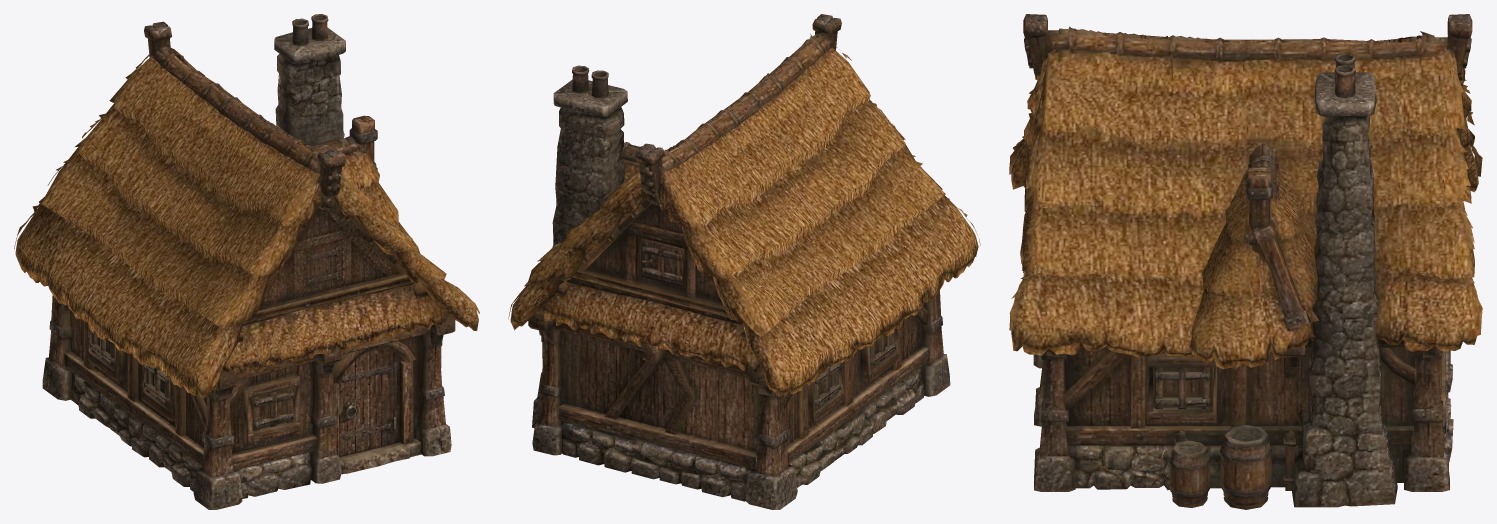
File: house_cottage_b.glb
3 renders of one model, left to right at view 1: azimuth 30°, elevation 25°; view 2: azimuth 150°, elevation 25°; view 3: azimuth 270°, elevation 25°, orthographic. The views are drawn at different scales.
Visible parts, largest first — view 1: tripo_node_62ef0c86-b345-4a7f-b496-f481b45b7750; view 2: tripo_node_62ef0c86-b345-4a7f-b496-f481b45b7750; view 3: tripo_node_62ef0c86-b345-4a7f-b496-f481b45b7750.
Part boxes in pixels (x1,y1,x2,y2): tripo_node_62ef0c86-b345-4a7f-b496-f481b45b7750: (14,14,479,509); tripo_node_62ef0c86-b345-4a7f-b496-f481b45b7750: (508,14,980,509); tripo_node_62ef0c86-b345-4a7f-b496-f481b45b7750: (1009,14,1482,509).
Size of the model in its own units: 0.9453 by 0.9839 by 0.9995.
1 material, 1 textured.
